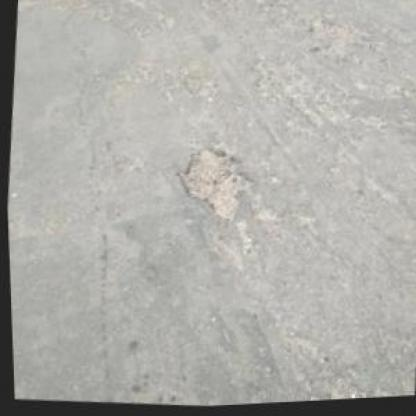pothole: (175, 144, 259, 226), (305, 16, 362, 70)
